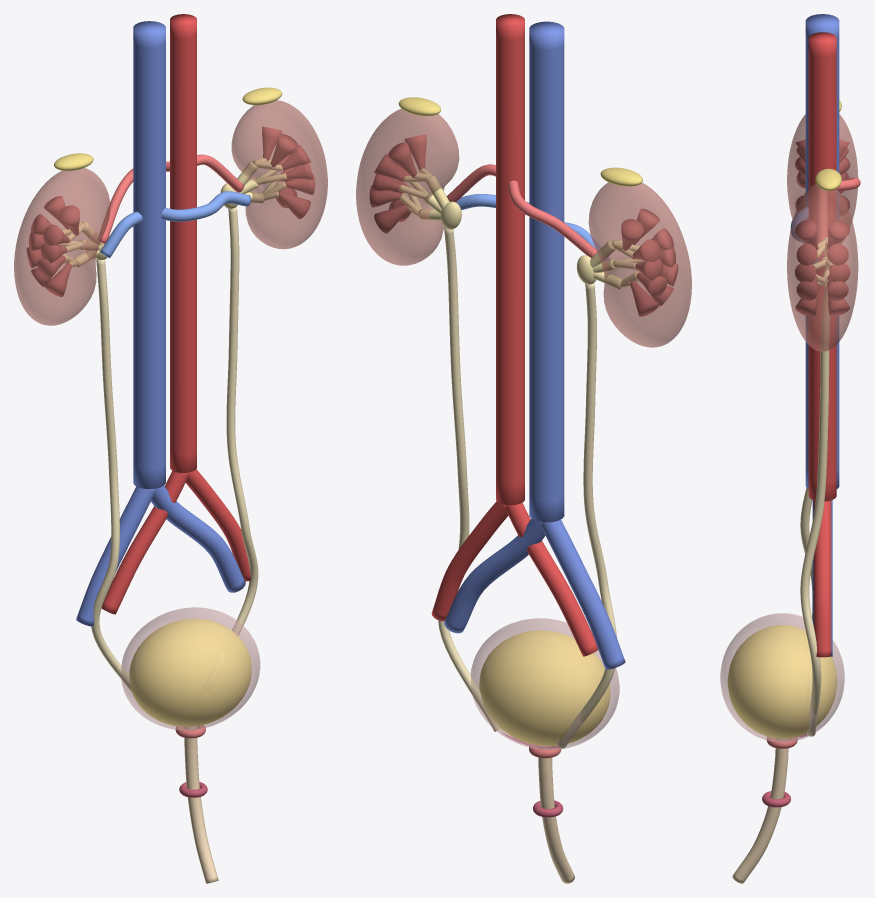
Rendered from URINARY.glb.
The picture shows the model from 3 angles, left to right: view 1: azimuth 30°, elevation 25°; view 2: azimuth 150°, elevation 25°; view 3: azimuth 270°, elevation 25°; orthographic projection. The views are drawn at different scales.
Parts seen in each view (by area): view 1: IVC_TRUNK, BLADDER_WALL, AORTA_TRUNK, KIDNEY_CORTEX_R, KIDNEY_CORTEX_L, BLADDER_URINE, URETER_R, URETER_L, RENAL_MEDULLA_R, RENAL_MEDULLA_L, IVC_ILIAC_L, AORTA_ILIAC_R (+8 smaller); view 2: IVC_TRUNK, BLADDER_WALL, AORTA_TRUNK, KIDNEY_CORTEX_R, KIDNEY_CORTEX_L, BLADDER_URINE, URETER_R, URETER_L, RENAL_MEDULLA_R, IVC_ILIAC_R, RENAL_MEDULLA_L, IVC_ILIAC_L (+6 smaller); view 3: BLADDER_WALL, KIDNEY_CORTEX_L, BLADDER_URINE, AORTA_TRUNK, URETER_L, RENAL_MEDULLA_L, IVC_TRUNK, KIDNEY_CORTEX_R, AORTA_ILIAC_L, URETHRA, RENAL_MEDULLA_R, URETER_R (+6 smaller).
Part boxes in pixels (left/top/right/bottom): IVC_TRUNK: left=133, top=21, right=165, bottom=489; BLADDER_WALL: left=121, top=607, right=260, bottom=730; AORTA_TRUNK: left=170, top=14, right=196, bottom=472; KIDNEY_CORTEX_R: left=14, top=168, right=110, bottom=325; KIDNEY_CORTEX_L: left=231, top=100, right=327, bottom=249; BLADDER_URINE: left=129, top=618, right=251, bottom=726; URETER_R: left=91, top=259, right=131, bottom=691; URETER_L: left=226, top=206, right=258, bottom=635; RENAL_MEDULLA_R: left=26, top=196, right=79, bottom=296; RENAL_MEDULLA_L: left=262, top=126, right=315, bottom=219; IVC_ILIAC_L: left=151, top=486, right=245, bottom=592; AORTA_ILIAC_R: left=101, top=470, right=187, bottom=614; IVC_TRUNK: left=529, top=21, right=564, bottom=522; BLADDER_WALL: left=470, top=618, right=619, bottom=749; AORTA_TRUNK: left=496, top=14, right=524, bottom=505; KIDNEY_CORTEX_R: left=588, top=182, right=691, bottom=347; KIDNEY_CORTEX_L: left=356, top=108, right=459, bottom=265; BLADDER_URINE: left=479, top=630, right=610, bottom=746; URETER_R: left=557, top=282, right=616, bottom=748; URETER_L: left=438, top=227, right=500, bottom=731; RENAL_MEDULLA_R: left=621, top=208, right=678, bottom=316; IVC_ILIAC_R: left=541, top=519, right=625, bottom=669; RENAL_MEDULLA_L: left=369, top=134, right=426, bottom=233; IVC_ILIAC_L: left=444, top=519, right=545, bottom=633; BLADDER_WALL: left=720, top=613, right=844, bottom=742; KIDNEY_CORTEX_L: left=787, top=184, right=858, bottom=351; BLADDER_URINE: left=727, top=625, right=837, bottom=738; AORTA_TRUNK: left=808, top=32, right=836, bottom=501; URETER_L: left=800, top=286, right=829, bottom=736; RENAL_MEDULLA_L: left=795, top=220, right=850, bottom=316; IVC_TRUNK: left=805, top=14, right=839, bottom=489; KIDNEY_CORTEX_R: left=787, top=114, right=858, bottom=243; AORTA_ILIAC_L: left=814, top=500, right=831, bottom=657; URETHRA: left=732, top=738, right=788, bottom=883; RENAL_MEDULLA_R: left=795, top=139, right=850, bottom=215; URETER_R: left=800, top=488, right=812, bottom=619.
Bounding box in the file's own units: 2.45 × 6.32 × 0.9458.
